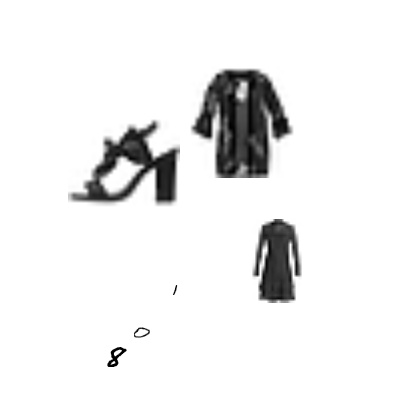0: (130, 321, 152, 343)
1: (168, 283, 182, 297)
8: (101, 342, 129, 370)
Coat: (184, 66, 296, 178)
Dress: (235, 219, 319, 303)
Sandal: (68, 105, 180, 217)
